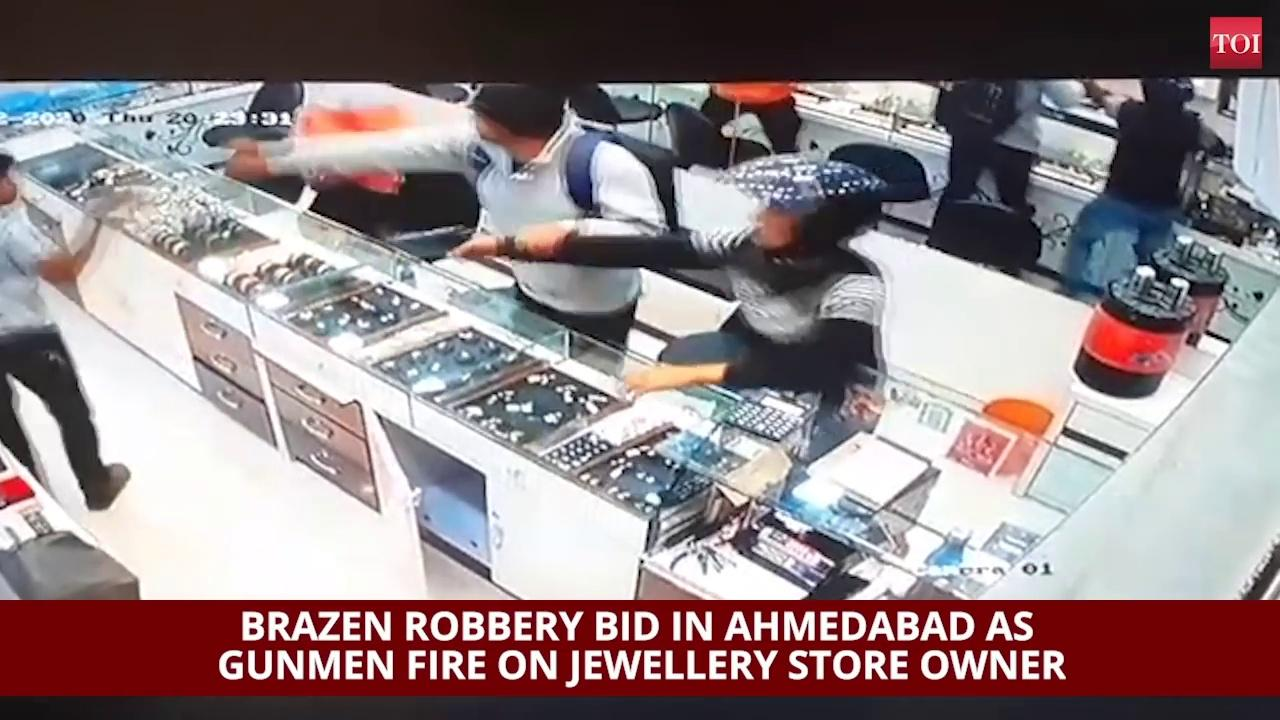weapon: (381, 223, 485, 259)
